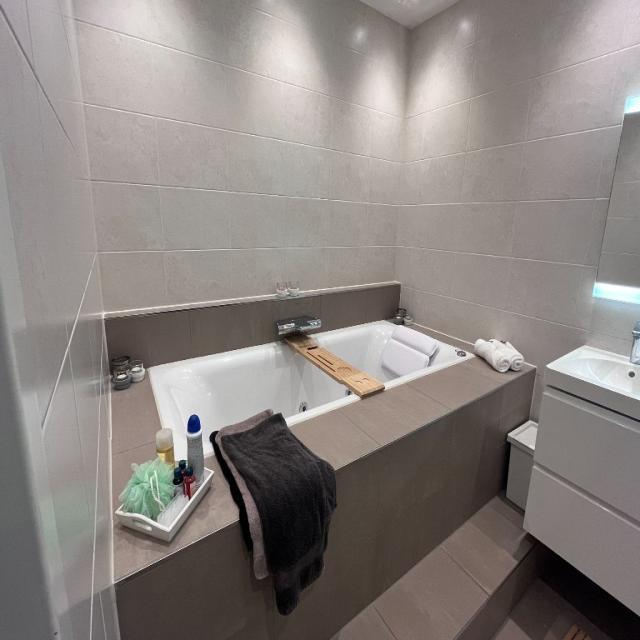bath: (147, 318, 478, 466)
wastafel: (522, 386, 640, 616), (547, 318, 640, 402)
